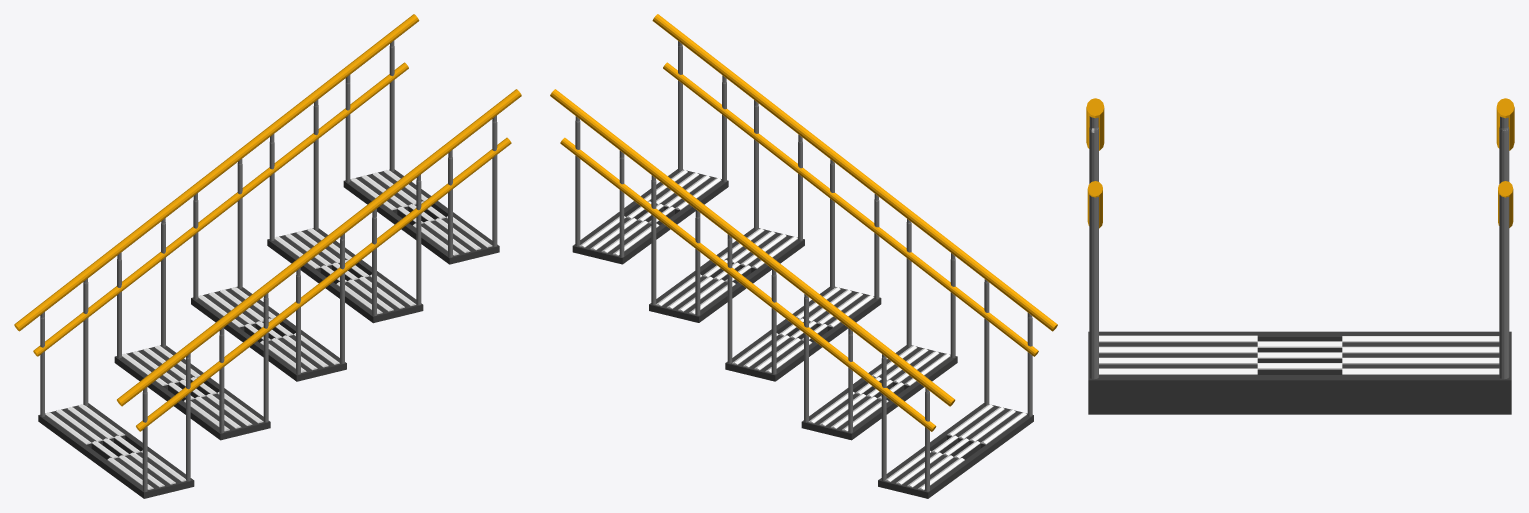
Rendered from SciFI_stairs(M3tt3o)fbx.fbx.
The picture shows the model from 3 angles, left to right: view 1: azimuth 30°, elevation 25°; view 2: azimuth 150°, elevation 25°; view 3: azimuth 270°, elevation 25°; orthographic projection. The views are drawn at different scales.
Parts seen in each view (by area): view 1: Step 1; view 2: Step 1; view 3: Step 1.
Boxes of the visible parts, left/top/right/bottom form: Step 1: left=14, top=14, right=521, bottom=498; Step 1: left=550, top=14, right=1057, bottom=498; Step 1: left=1086, top=98, right=1514, bottom=414.
Size of the model in its own units: 528 by 397 by 243.
1 material, 1 textured.
